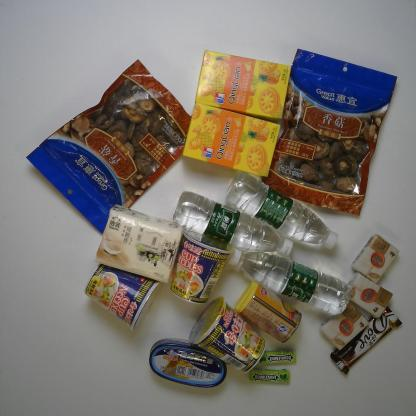Canned Food: (234, 279, 303, 342), (148, 338, 227, 388)
Chocolate: (329, 307, 401, 376)
Dessert: (181, 100, 283, 178), (196, 48, 294, 119)
Dried Food: (23, 56, 195, 232), (259, 47, 400, 218)
Drink: (225, 172, 339, 250), (227, 244, 350, 316), (172, 190, 294, 258)
Gum: (248, 365, 292, 386), (254, 348, 297, 366)
Instant Noodles: (186, 297, 266, 374), (86, 265, 160, 331), (169, 231, 233, 304)
Tissue: (94, 203, 182, 284), (351, 234, 401, 284), (320, 301, 368, 353), (343, 272, 394, 320)
